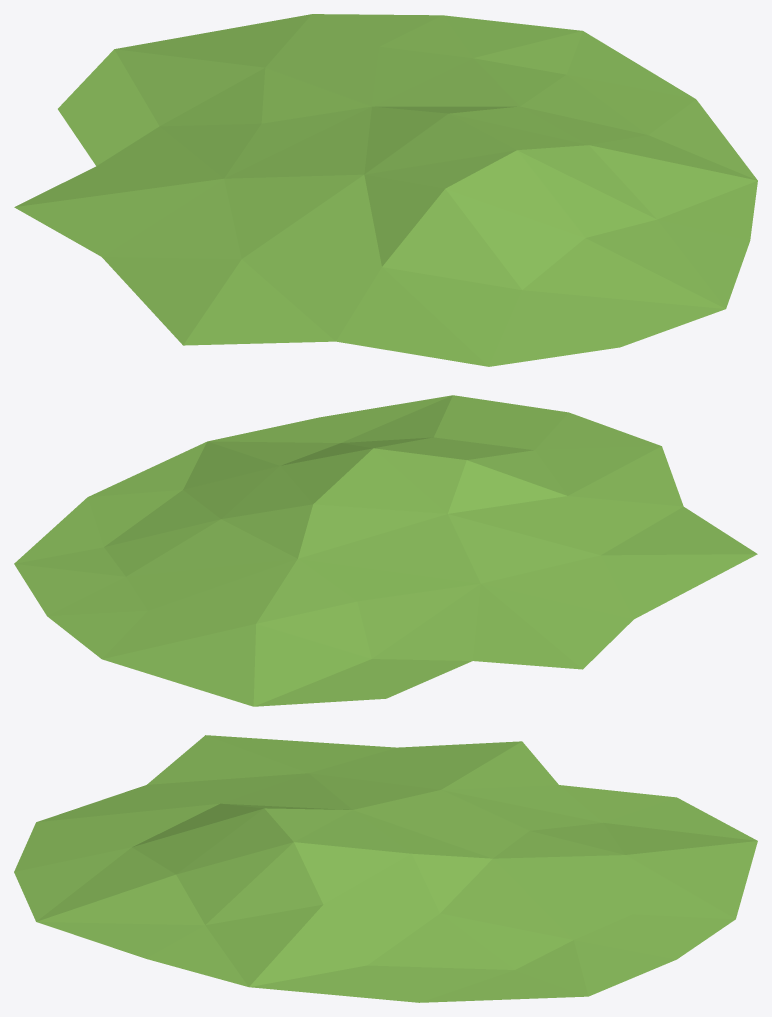
The model's file is MT_Mountain_S_a_02_LOD.fbx.
3 views of the same model, one above another, from view 1: azimuth 30°, elevation 25°; view 2: azimuth 150°, elevation 25°; view 3: azimuth 270°, elevation 25° (orthographic). The views are drawn at different scales.
Visible parts, largest first — view 1: MT_Mountain_S_a_02_LOD0; view 2: MT_Mountain_S_a_02_LOD0; view 3: MT_Mountain_S_a_02_LOD0.
Boxes of the visible parts, box(x1,y1,x2,y2) form: MT_Mountain_S_a_02_LOD0: box(14, 14, 757, 366); MT_Mountain_S_a_02_LOD0: box(14, 395, 757, 706); MT_Mountain_S_a_02_LOD0: box(14, 735, 757, 1002).
Size of what is drawn, in the model's own units: 1680 by 162 by 1973.
